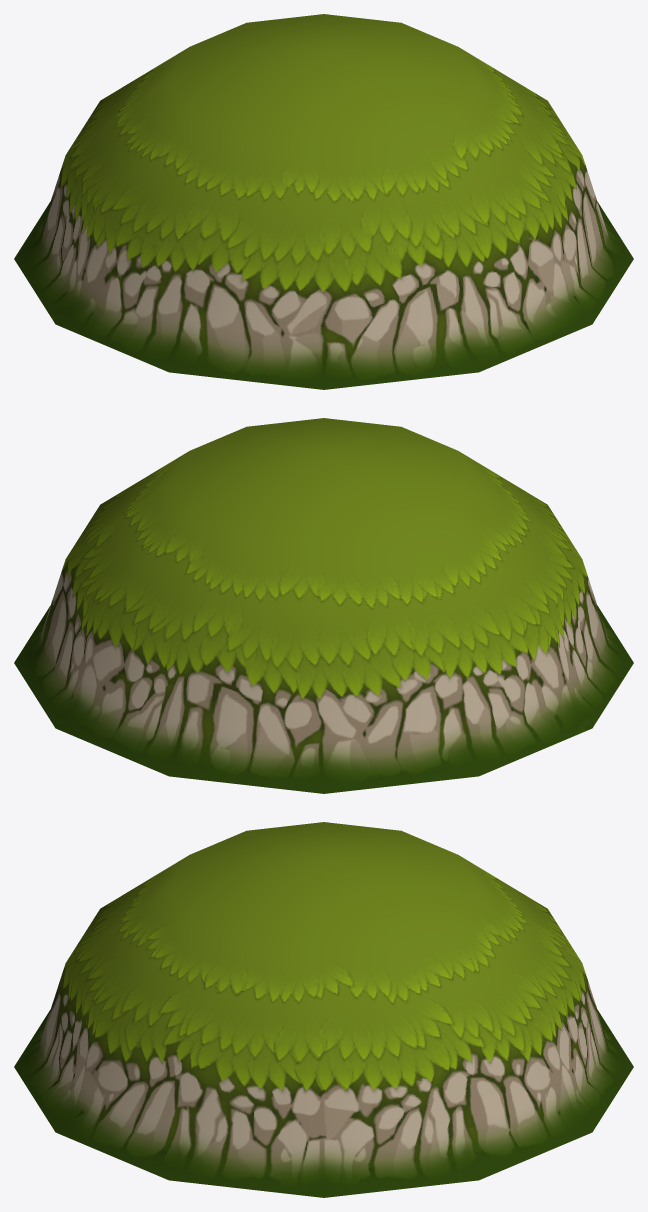
Rendered from Hill7.glb.
The picture shows the model from 3 angles, top to bottom: view 1: azimuth 30°, elevation 25°; view 2: azimuth 150°, elevation 25°; view 3: azimuth 270°, elevation 25°; orthographic projection.
Visible parts, largest first — view 1: Hill_07; view 2: Hill_07; view 3: Hill_07.
Boxes of the visible parts, bbox=[...] form: Hill_07: bbox=[14, 14, 633, 389]; Hill_07: bbox=[14, 418, 633, 793]; Hill_07: bbox=[14, 822, 633, 1197].
Bounding box in the file's own units: 151 × 55.58 × 151.
Materials: 1 (1 with a texture image).
